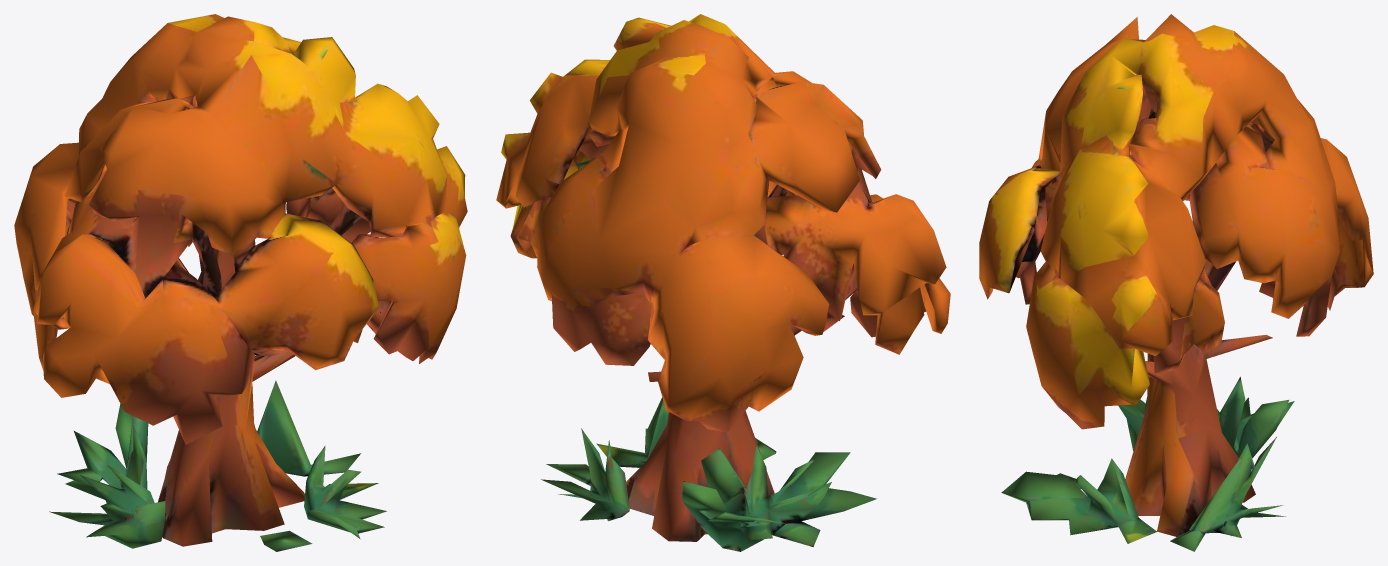
Rendered from albero_arancio.glb.
3 renders of one model, left to right at view 1: azimuth 30°, elevation 25°; view 2: azimuth 150°, elevation 25°; view 3: azimuth 270°, elevation 25°, orthographic. The views are drawn at different scales.
Visible parts, largest first — view 1: geometry_0; view 2: geometry_0; view 3: geometry_0.
Boxes of the visible parts, left/top/right/bottom form: geometry_0: left=14, top=14, right=467, bottom=551; geometry_0: left=496, top=14, right=950, bottom=551; geometry_0: left=979, top=14, right=1373, bottom=551.
Bounding box in the file's own units: 5.93 × 6.4 × 4.77.
1 material, 1 textured.
